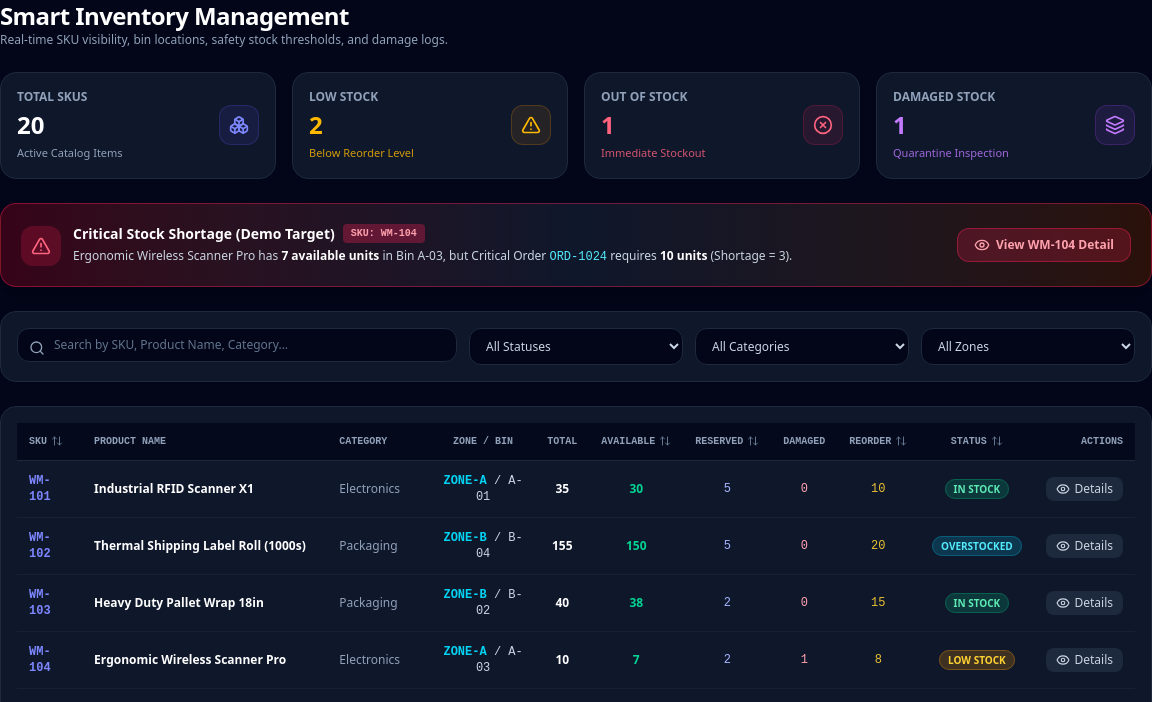
Test case: InventoryPage › should filter items by search query
Type "WM-104" into the field named "Search inventory by SKU, product name, or category".
click(237, 344); type("WM-104")  # box [17, 328, 457, 362]
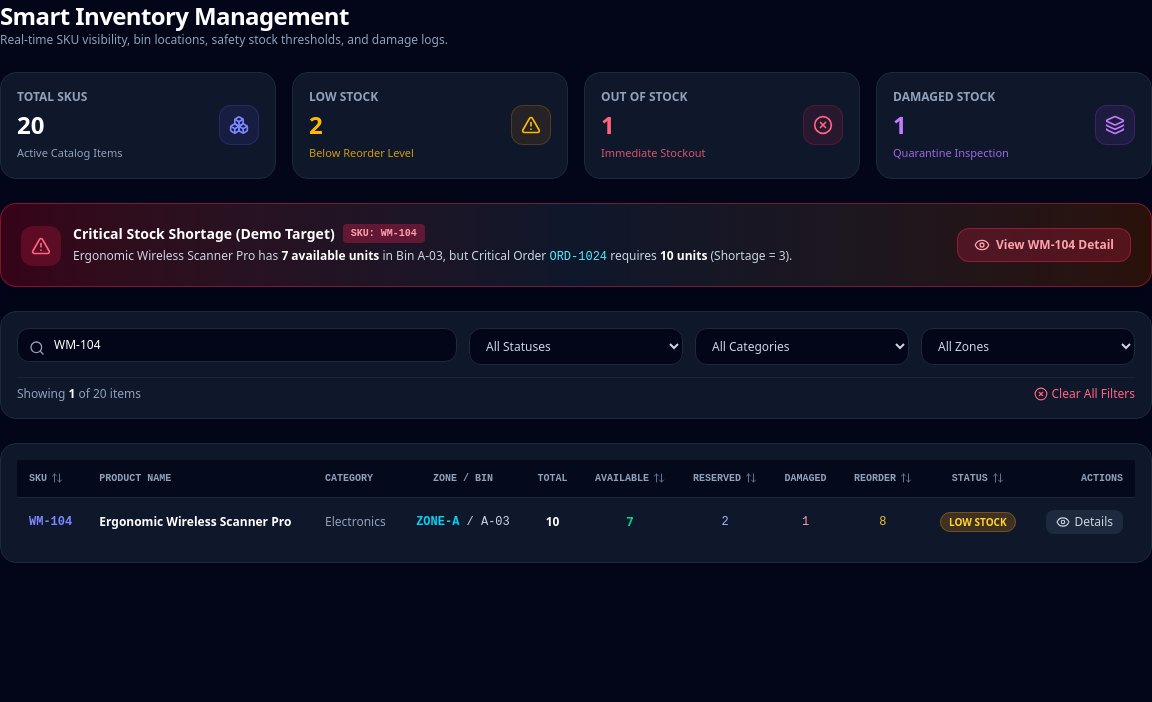
Expected: the text "WM-104" is shown, [17, 498, 87, 546]
Expected: the text "WM-101" is gone
